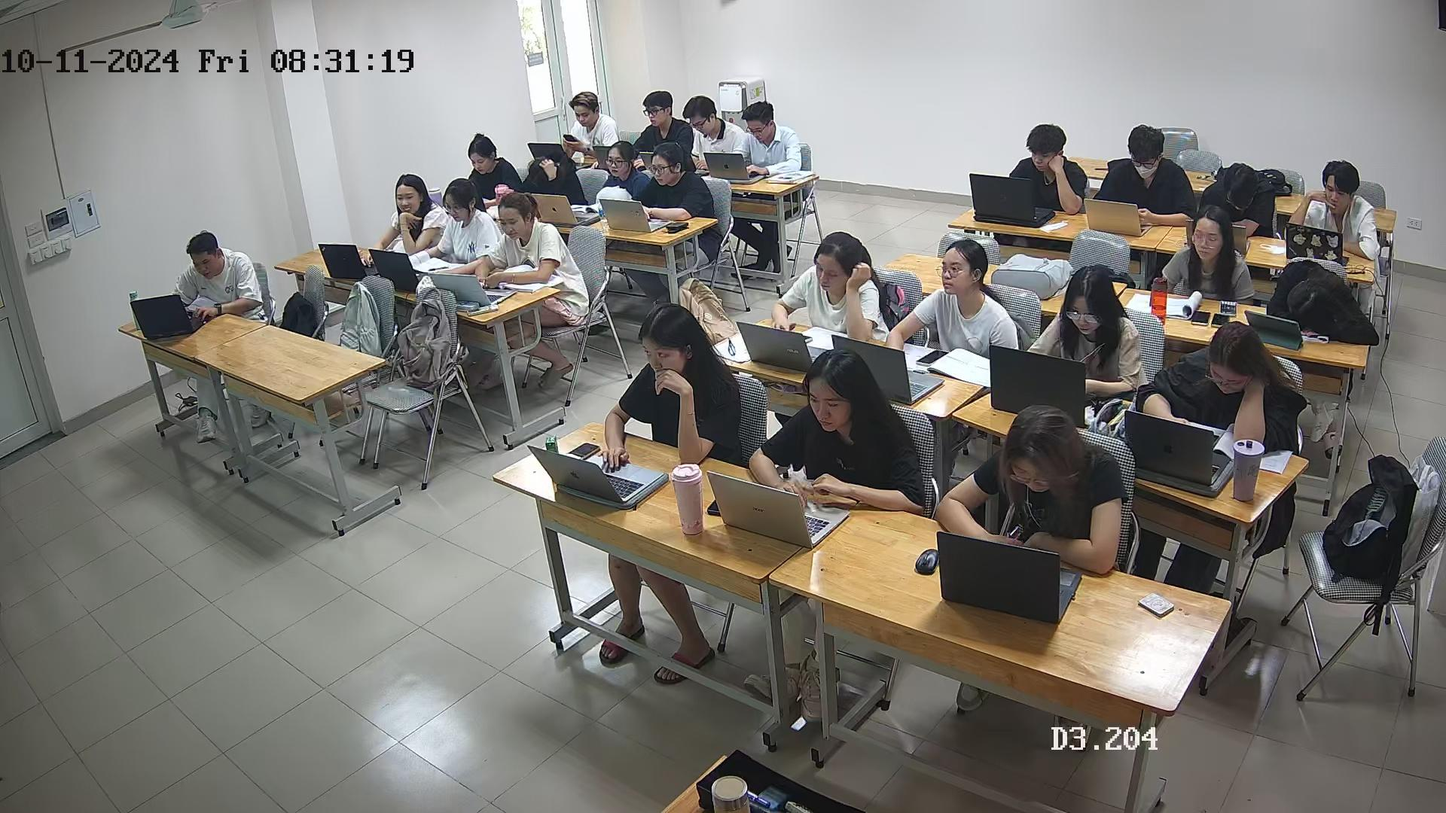Bend Over The Desk: (1021, 120, 1083, 218)
phone: (558, 127, 583, 152)
